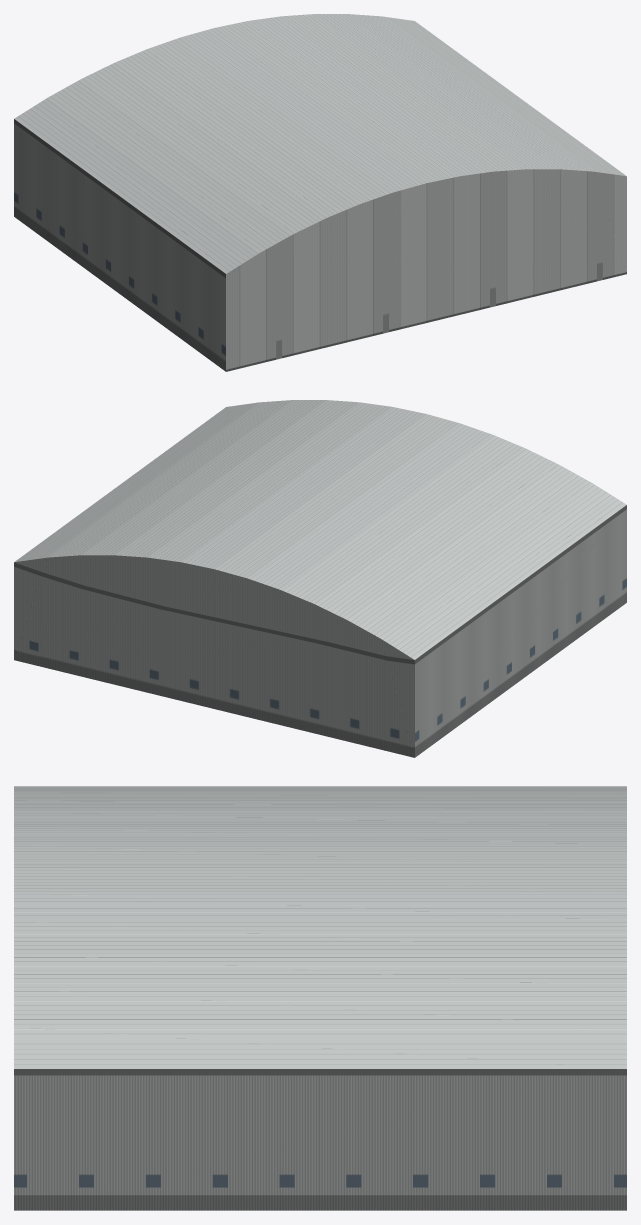
File: khua_hangar_60x55.glb
3 views of the same model, one above another, from view 1: azimuth 30°, elevation 25°; view 2: azimuth 150°, elevation 25°; view 3: azimuth 270°, elevation 25° (orthographic). The views are drawn at different scales.
Parts seen in each view (by area): view 1: khua_hangar_60x55_hangar_roof, khua_hangar_60x55_hangar_door, khua_hangar_60x55_hangar_wall; view 2: khua_hangar_60x55_hangar_roof, khua_hangar_60x55_hangar_wall; view 3: khua_hangar_60x55_hangar_roof, khua_hangar_60x55_hangar_wall.
Part boxes in pixels (left/top/right/bottom): khua_hangar_60x55_hangar_roof: left=14, top=14, right=626, bottom=273; khua_hangar_60x55_hangar_door: left=226, top=169, right=626, bottom=371; khua_hangar_60x55_hangar_wall: left=14, top=119, right=225, bottom=371; khua_hangar_60x55_hangar_roof: left=14, top=400, right=626, bottom=659; khua_hangar_60x55_hangar_wall: left=14, top=505, right=626, bottom=757; khua_hangar_60x55_hangar_roof: left=14, top=786, right=626, bottom=1068; khua_hangar_60x55_hangar_wall: left=14, top=1069, right=626, bottom=1210.
Size of the model in its own units: 60 by 20 by 55.
3 materials, 3 textured.
